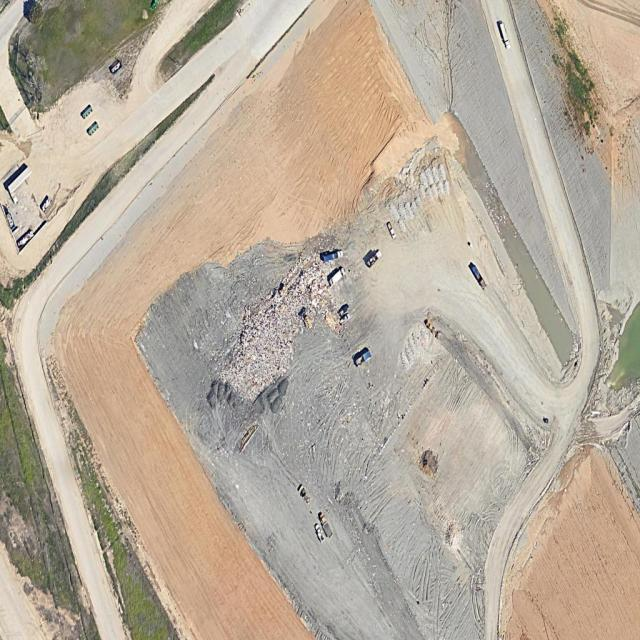dump_site: (201, 259, 340, 408)
